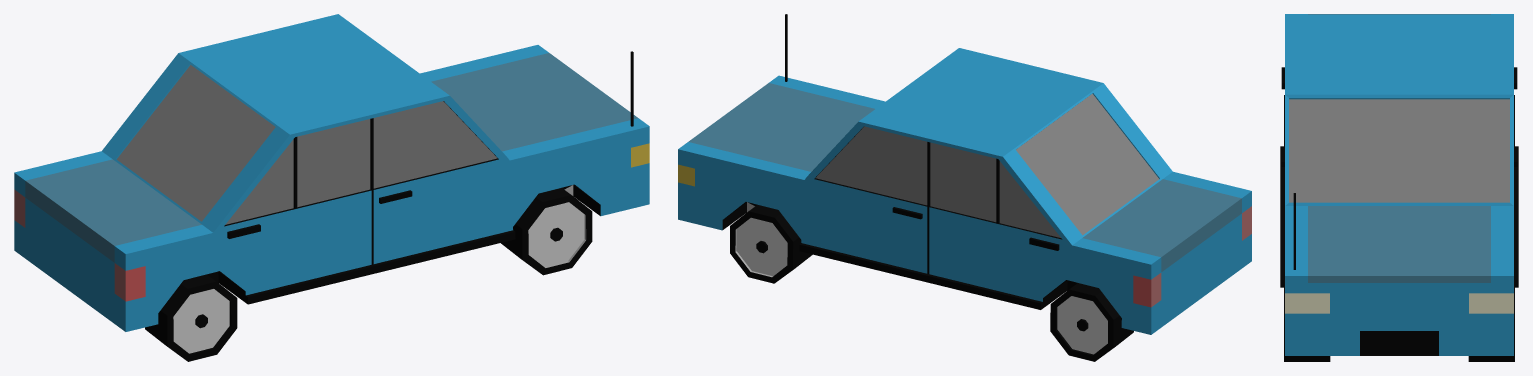
Rendered from car01.fbx.
The picture shows the model from 3 angles, left to right: view 1: azimuth 30°, elevation 25°; view 2: azimuth 150°, elevation 25°; view 3: azimuth 270°, elevation 25°; orthographic projection. The views are drawn at different scales.
Visible parts, largest first — view 1: pCylinder8; view 2: pCylinder8; view 3: pCylinder8.
Boxes of the visible parts, x1,y1,x2,y2 form: pCylinder8: [14, 14, 649, 361]; pCylinder8: [678, 14, 1251, 361]; pCylinder8: [1280, 14, 1518, 361].
Size of the model in its own units: 11.22 by 4.13 by 4.31.
